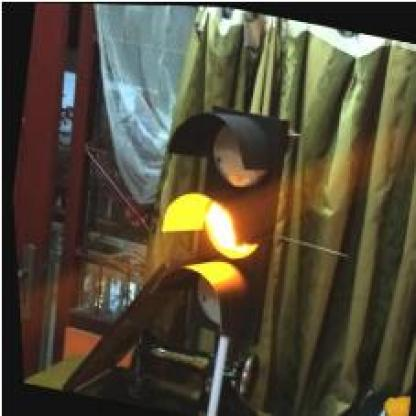yellow: (129, 96, 296, 344)
